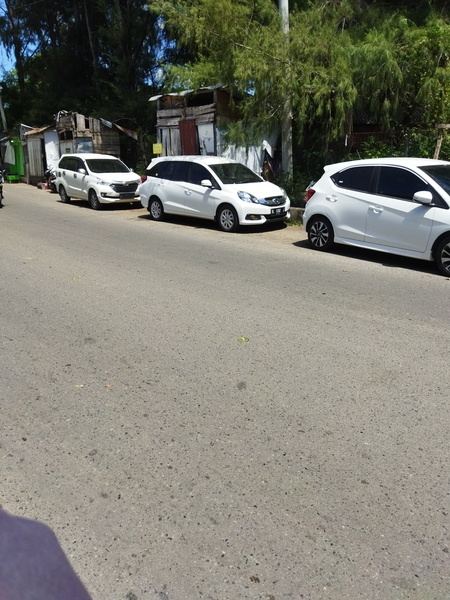car: (298, 151, 450, 286), (138, 149, 289, 237), (54, 148, 141, 212)
